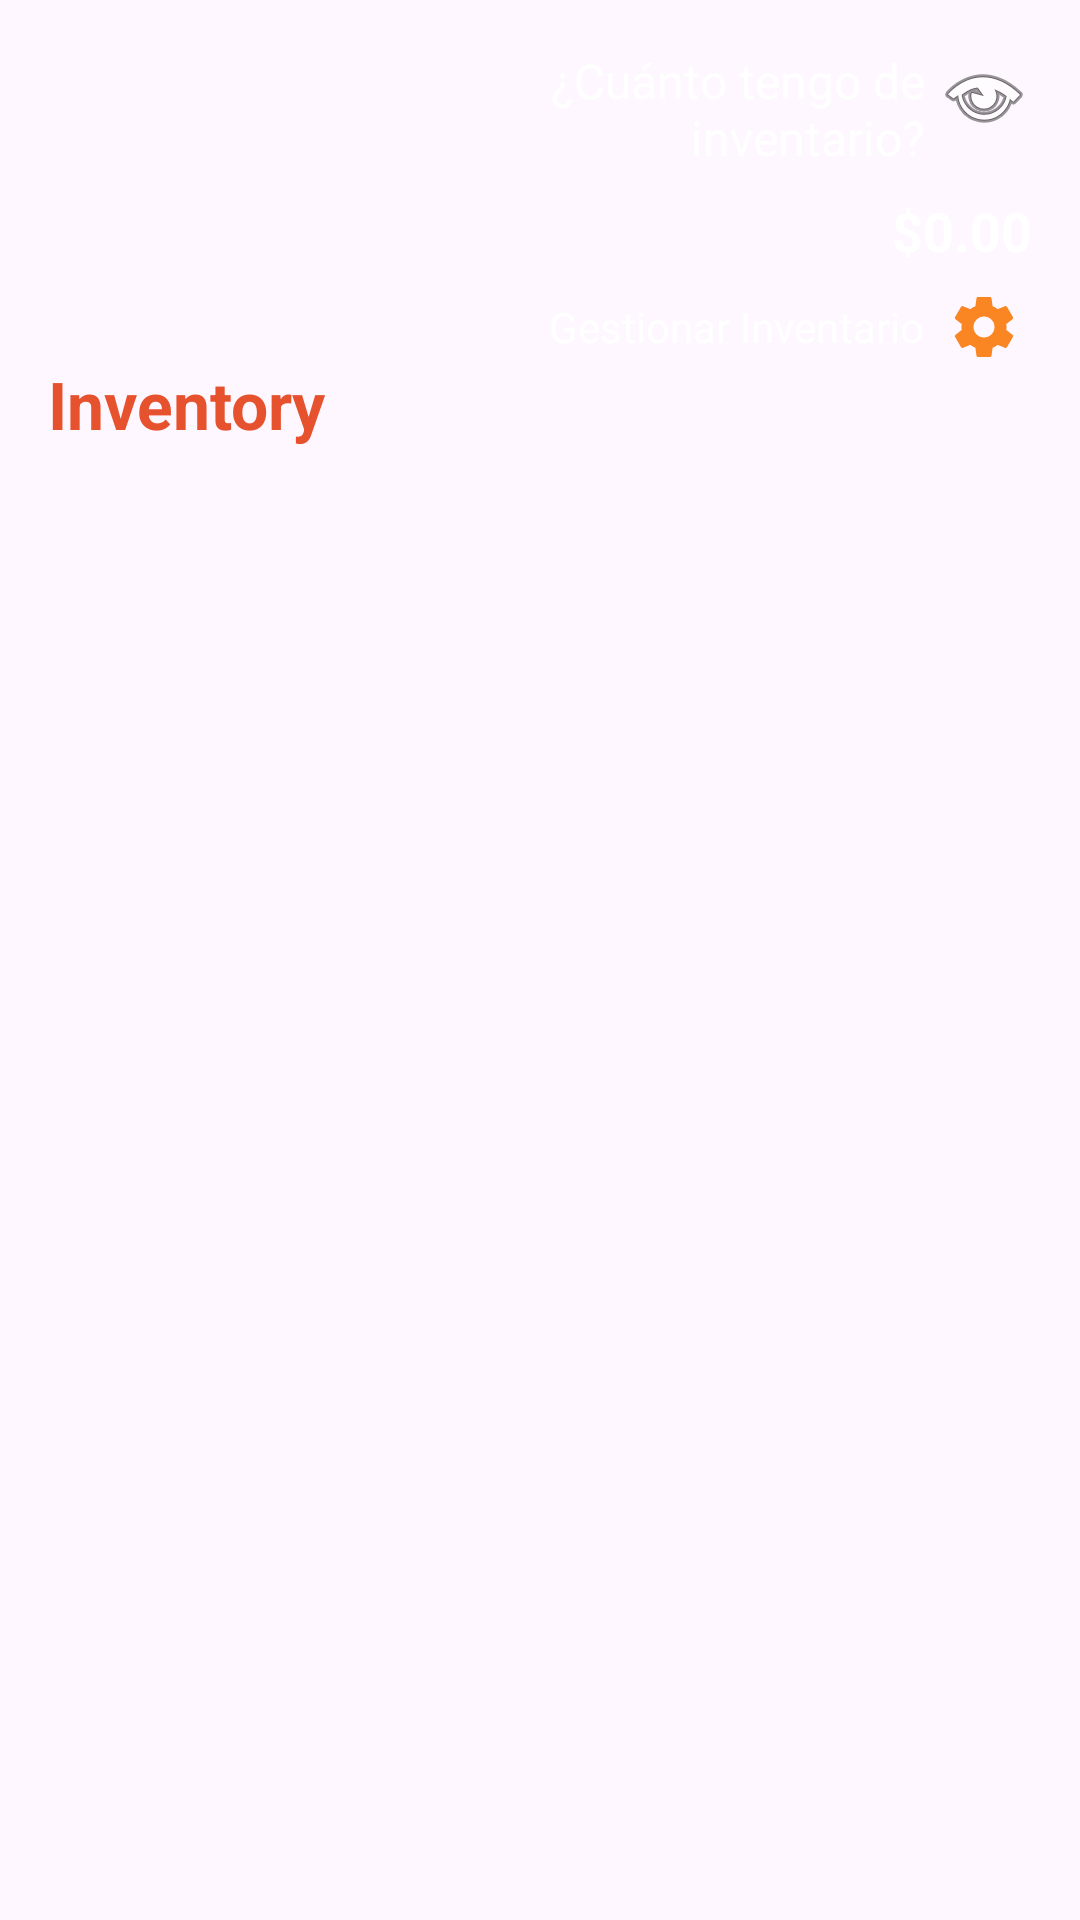

Screen size 1080px×1920px. Icon name, then its center in pixels as (x,y):
Settings: (983,327)
Toggle Visibility: (984,98)
